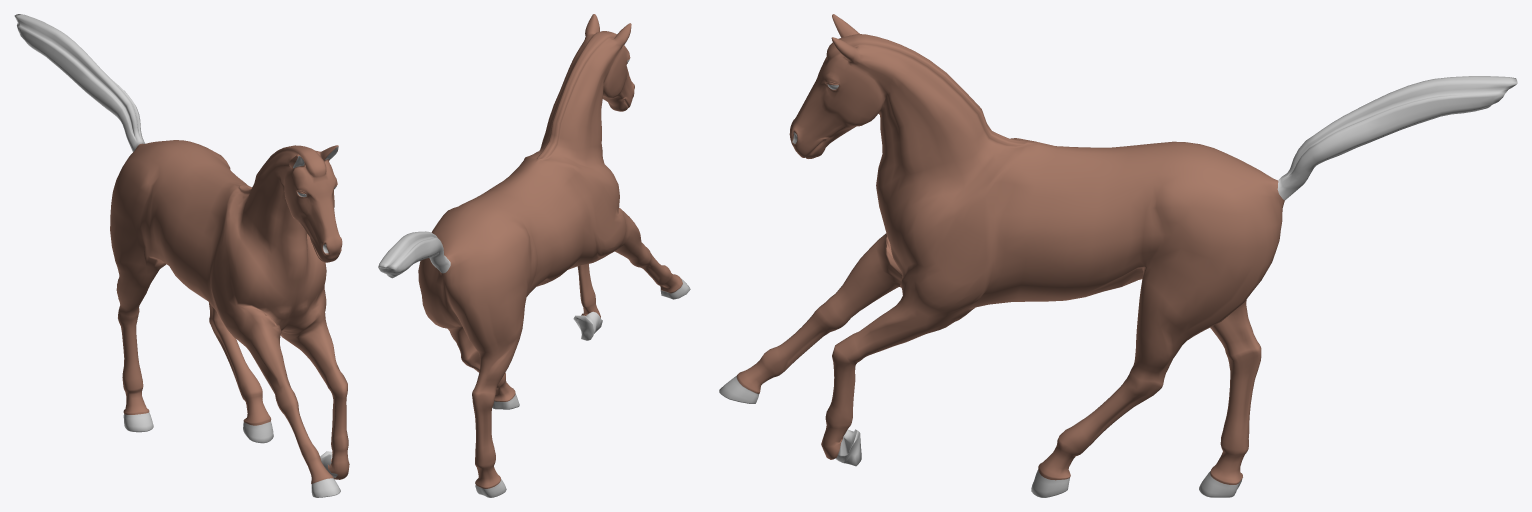
The model's file is horse_obj_20.obj.
3 renders of one model, left to right at view 1: azimuth 30°, elevation 25°; view 2: azimuth 150°, elevation 25°; view 3: azimuth 270°, elevation 25°, orthographic. The views are drawn at different scales.
Visible parts, largest first — view 1: Figure_1; view 2: Figure_1; view 3: Figure_1.
Boxes of the visible parts, x1=… form: Figure_1: x1=14, y1=14, x2=349, y2=497; Figure_1: x1=378, y1=14, x2=690, y2=497; Figure_1: x1=719, y1=14, x2=1517, y2=497.
Size of the model in its own units: 0.2421 by 0.8731 by 1.31.
